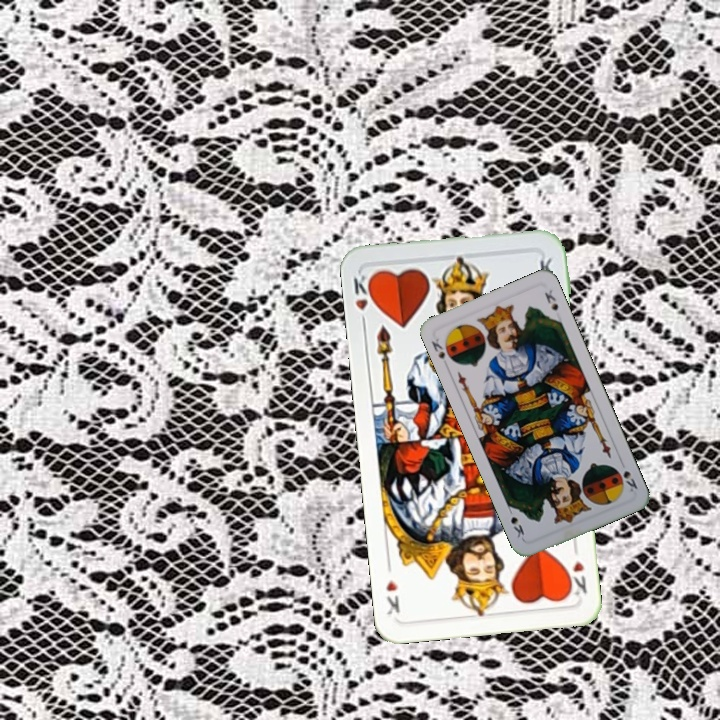HK: (349, 270, 378, 330), (563, 557, 589, 600)
SK: (616, 456, 640, 494), (427, 334, 448, 362)
